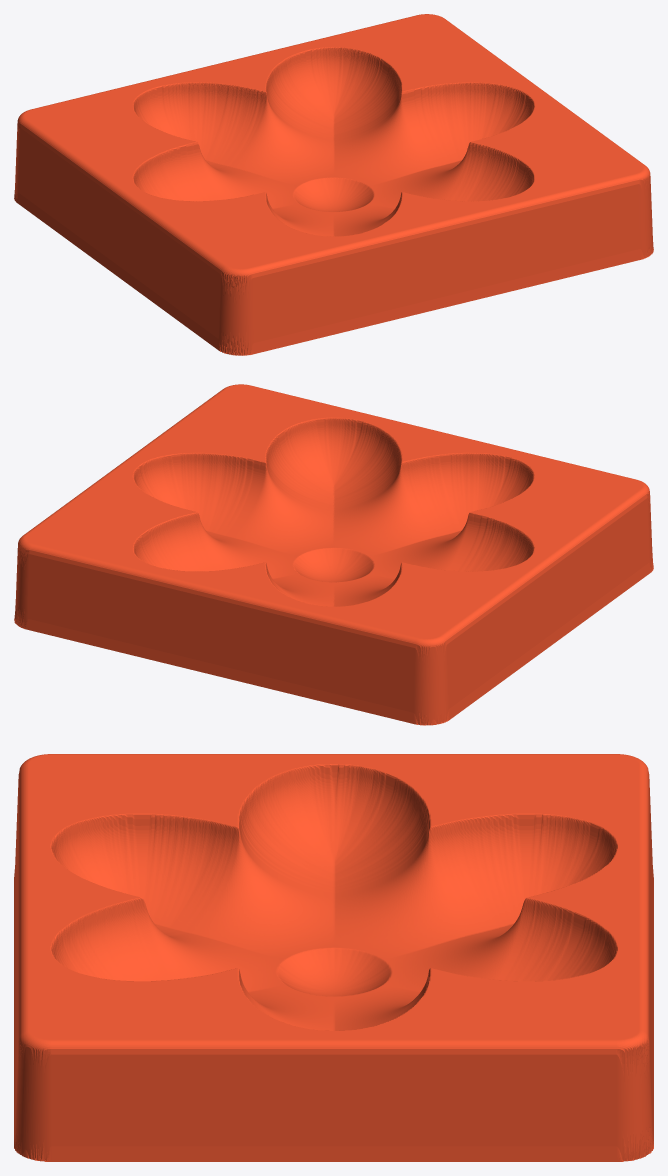
Rendered from mold.glb.
3 renders of one model, top to bottom at view 1: azimuth 30°, elevation 25°; view 2: azimuth 150°, elevation 25°; view 3: azimuth 270°, elevation 25°, orthographic. The views are drawn at different scales.
Visible parts, largest first — view 1: geometry_0; view 2: geometry_0; view 3: geometry_0.
Boxes of the visible parts, x1,y1,x2,y2 form: geometry_0: [14, 14, 653, 355]; geometry_0: [14, 384, 653, 725]; geometry_0: [14, 754, 653, 1161].
Bounding box in the file's own units: 0.1709 × 0.031 × 0.1553.
